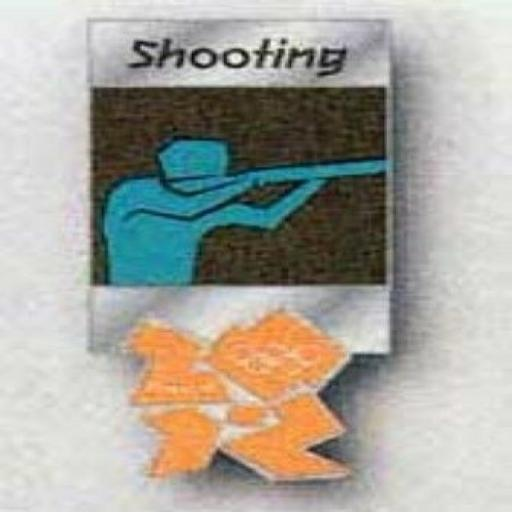shooting: (99, 131, 399, 289)
